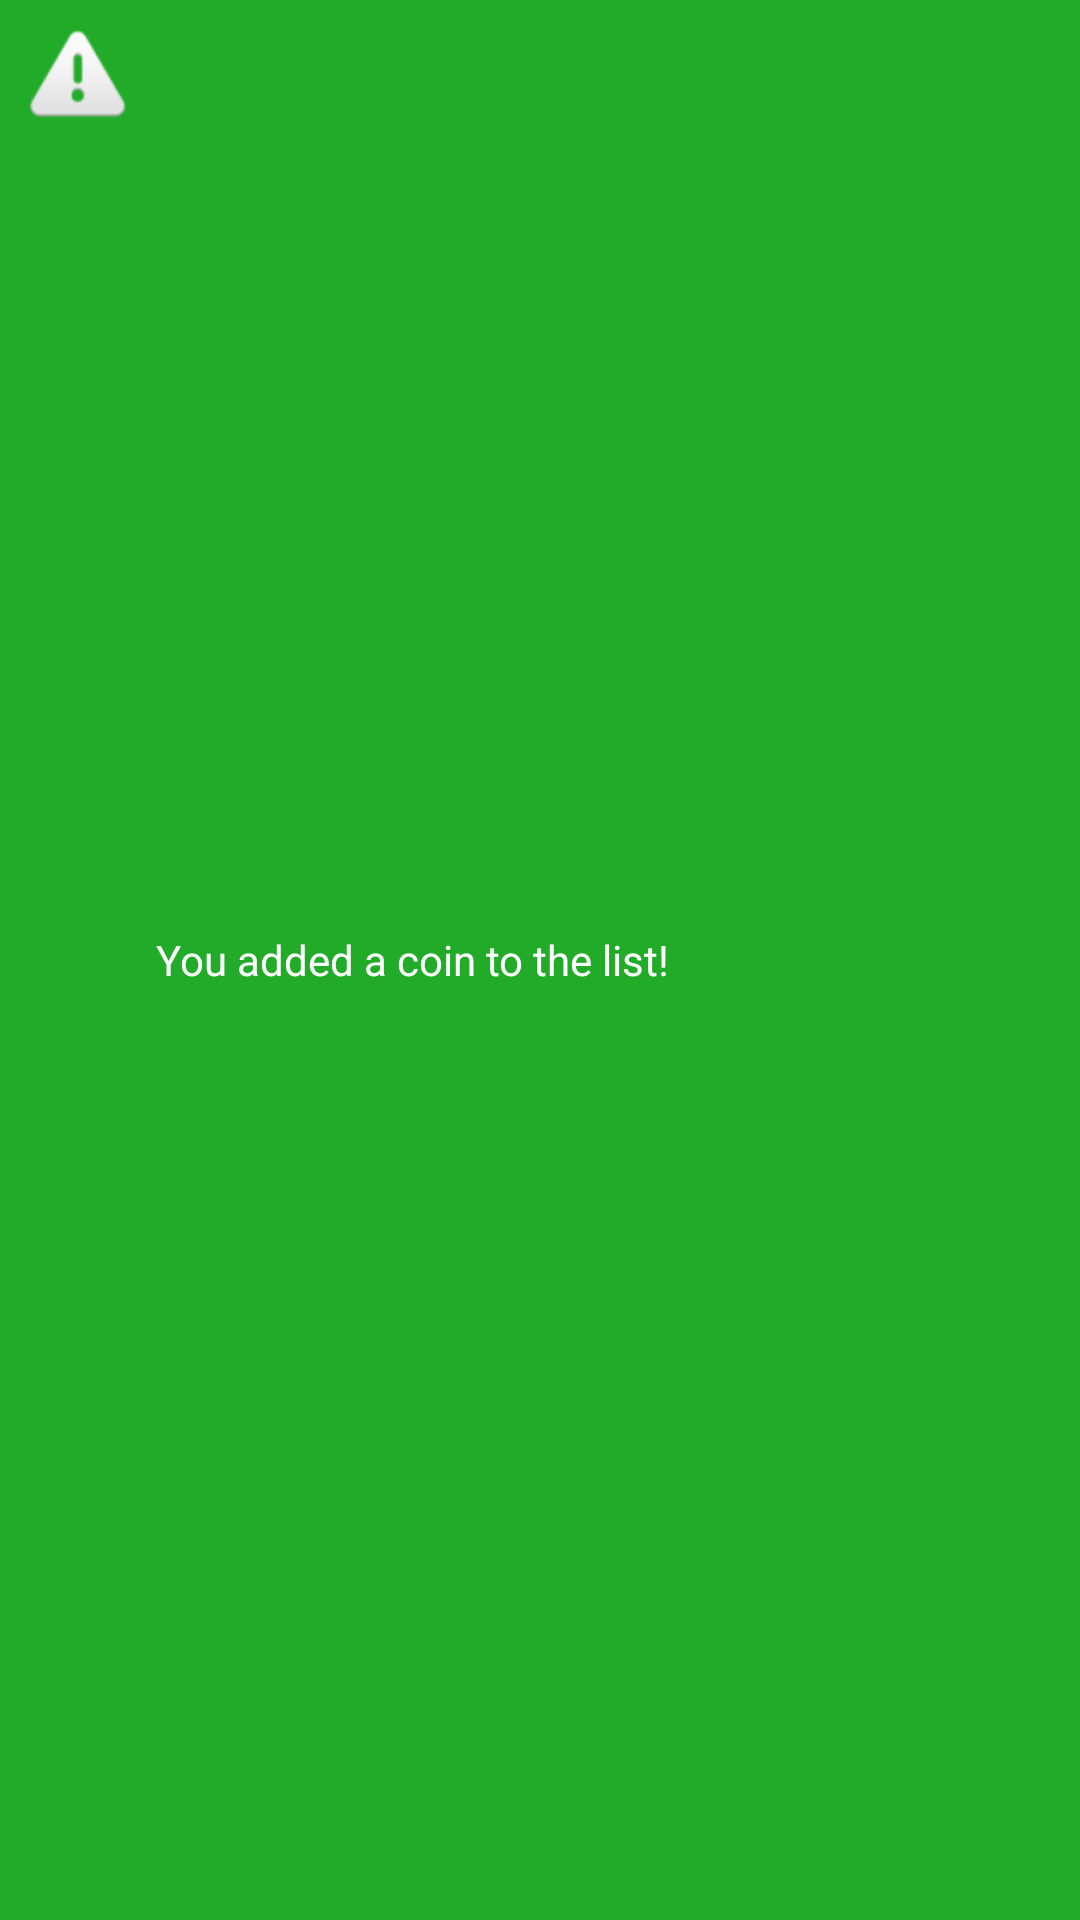

Screen size 1080w x 1920h. Icon name, then its center in pixels as point (x, y):
alert: point (78, 73)
